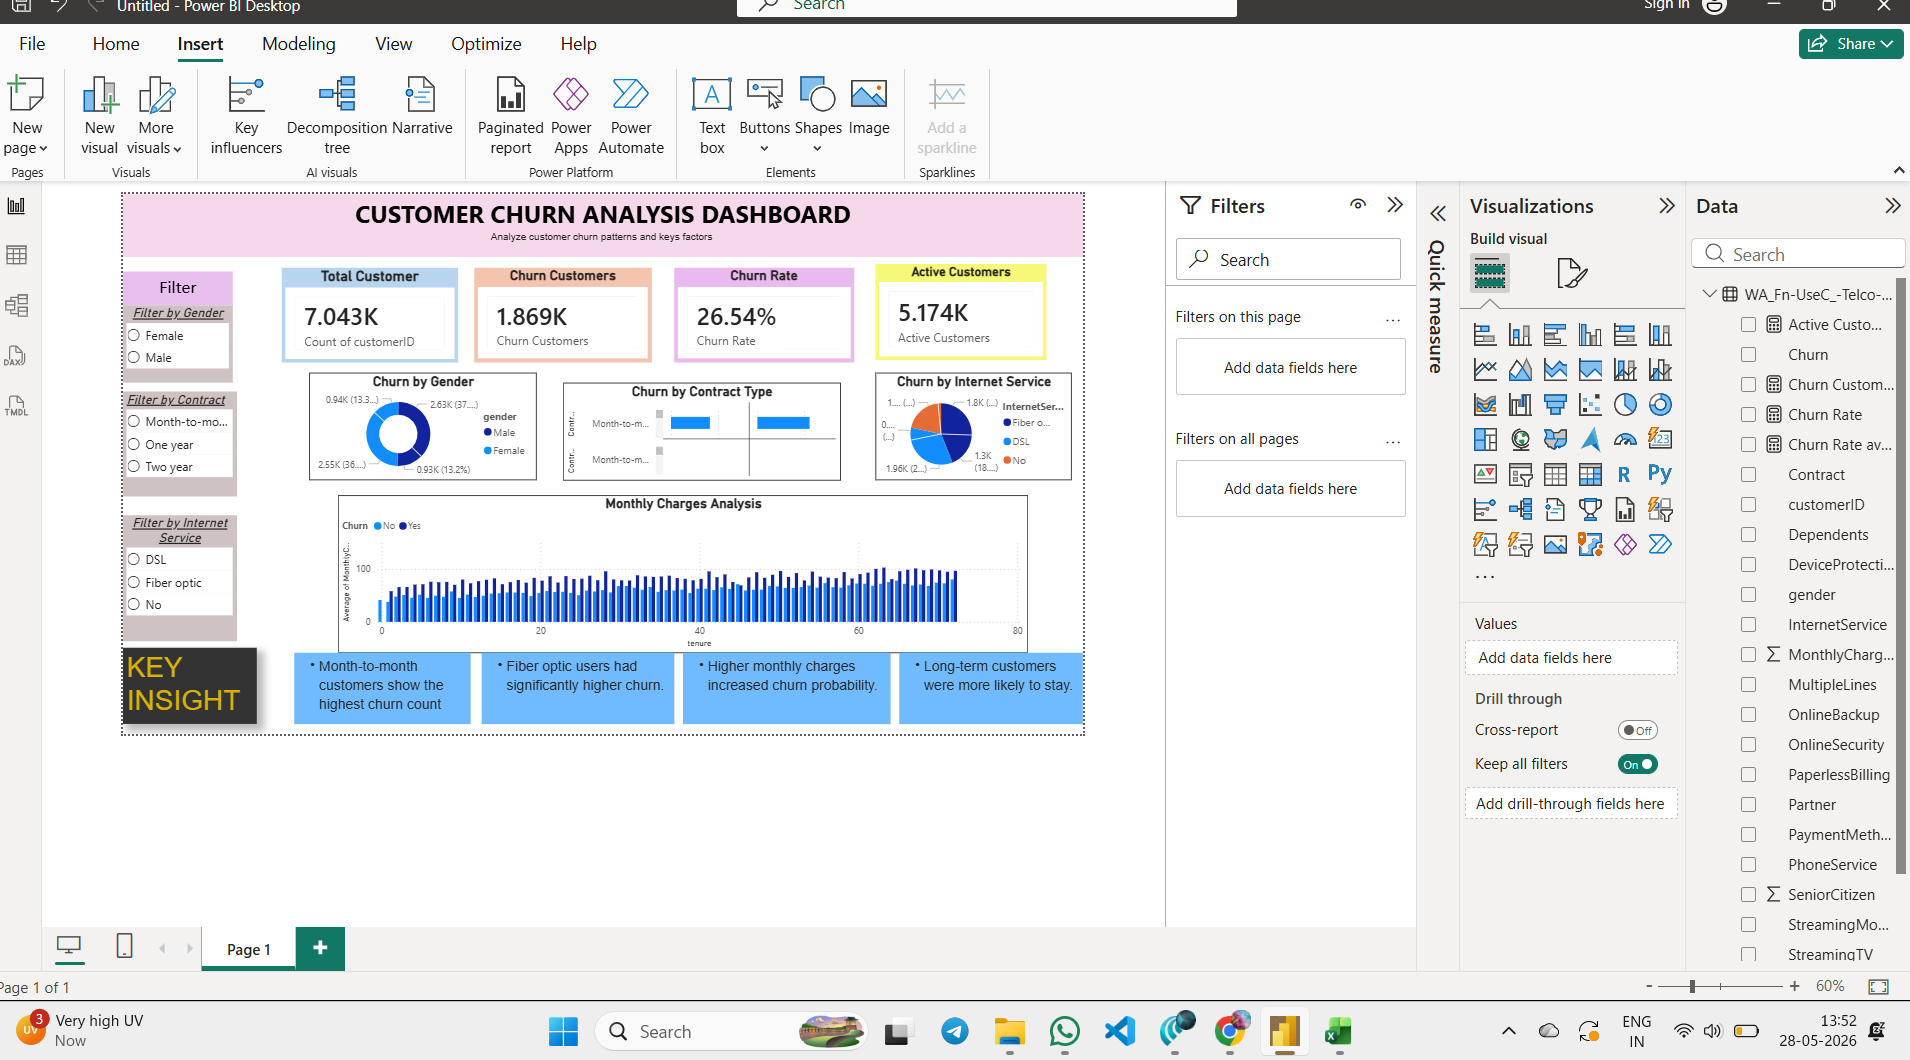

The page's visual inventory and layout, read from the dashboard file:
{"tool":"powerbi","page":{"name":"Page 1","canvas":[1280,720],"ordinal":0},"visuals":[{"type":"actionButton","box":[0,0,100,40],"z":0},{"type":"cardVisual","title":"Total Customer","fields":{"Data":["CountNonNull(WA_Fn-UseC_-Telco-Customer-Churn csv.customerID)"]},"box":[211.7,98.3,235,126.7],"z":1000},{"type":"cardVisual","title":"Churn Customers","fields":{"Data":["WA_Fn-UseC_-Telco-Customer-Churn csv.Churn Customers"]},"box":[468.3,98.3,236.7,126.7],"z":2000},{"type":"cardVisual","title":"Churn Rate","fields":{"Data":["WA_Fn-UseC_-Telco-Customer-Churn csv.Churn Rate"]},"box":[735,98.3,240,126.7],"z":3000},{"type":"cardVisual","title":"Active Customers","fields":{"Data":["WA_Fn-UseC_-Telco-Customer-Churn csv.Active Customers"]},"box":[1003.3,93.3,228.3,128.3],"z":4000},{"type":"donutChart","title":"Churn  by  Gender","fields":{"Category":["WA_Fn-UseC_-Telco-Customer-Churn csv.gender"],"Y":["CountNonNull(WA_Fn-UseC_-Telco-Customer-Churn csv.customerID)"],"Series":["WA_Fn-UseC_-Telco-Customer-Churn csv.Churn"]},"box":[248.3,238.3,303.3,143.3],"z":5000},{"type":"clusteredBarChart","title":"Churn by Contract Type","fields":{"Category":["WA_Fn-UseC_-Telco-Customer-Churn csv.Contract"],"Rows":["WA_Fn-UseC_-Telco-Customer-Churn csv.Churn"],"Y":["CountNonNull(WA_Fn-UseC_-Telco-Customer-Churn csv.customerID)"]},"box":[586.7,251.7,370,130],"z":6000},{"type":"pieChart","title":"Churn by Internet Service","fields":{"Category":["WA_Fn-UseC_-Telco-Customer-Churn csv.InternetService"],"Y":["CountNonNull(WA_Fn-UseC_-Telco-Customer-Churn csv.customerID)"],"Series":["WA_Fn-UseC_-Telco-Customer-Churn csv.Churn"]},"box":[1003.3,238.3,261.7,143.3],"z":7000},{"type":"clusteredColumnChart","title":"Monthly Charges Analysis","fields":{"Category":["WA_Fn-UseC_-Telco-Customer-Churn csv.tenure"],"Y":["Avg(WA_Fn-UseC_-Telco-Customer-Churn csv.MonthlyCharges)"],"Series":["WA_Fn-UseC_-Telco-Customer-Churn csv.Churn"]},"box":[286.7,401.7,920,210],"z":8000},{"type":"listSlicer","title":"Filter by Gender","fields":{"Values":["WA_Fn-UseC_-Telco-Customer-Churn csv.gender"]},"box":[0,148.3,146.7,103.3],"z":8001},{"type":"listSlicer","title":"Filter by Contract","fields":{"Values":["WA_Fn-UseC_-Telco-Customer-Churn csv.Contract"]},"box":[0,263.3,151.7,140],"z":8002},{"type":"listSlicer","title":" Filter by Internet Service","fields":{"Values":["WA_Fn-UseC_-Telco-Customer-Churn csv.InternetService"]},"box":[0,428.3,151.7,168.3],"z":8003},{"type":"textbox","box":[0,605,178.3,101.7],"z":8004},{"type":"textbox","box":[0,0,1280,84.1],"z":8005},{"type":"textbox","box":[0,103.3,146.7,45],"z":8006},{"type":"textbox","box":[228.3,611.7,235,95],"z":8007},{"type":"textbox","box":[478.3,611.7,256.7,95],"z":8008},{"type":"textbox","box":[746.7,611.7,276.7,95],"z":8009},{"type":"textbox","box":[1035,611.7,245,95],"z":8010}]}

Visuals, with their boxes on the page's 1280x720 design canvas (x1, y1, x2, y2). These are canvas units, not pixel positions in the 1910x1060 screenshot, which may show the page scaled, cropped or inside an application window:
actionButton: region(0, 0, 100, 40)
"Total Customer" cardVisual: region(212, 98, 447, 225)
"Churn Customers" cardVisual: region(468, 98, 705, 225)
"Churn Rate" cardVisual: region(735, 98, 975, 225)
"Active Customers" cardVisual: region(1003, 93, 1232, 222)
"Churn  by  Gender" donutChart: region(248, 238, 552, 382)
"Churn by Contract Type" clusteredBarChart: region(587, 252, 957, 382)
"Churn by Internet Service" pieChart: region(1003, 238, 1265, 382)
"Monthly Charges Analysis" clusteredColumnChart: region(287, 402, 1207, 612)
"Filter by Gender" listSlicer: region(0, 148, 147, 252)
"Filter by Contract" listSlicer: region(0, 263, 152, 403)
" Filter by Internet Service" listSlicer: region(0, 428, 152, 597)
textbox: region(0, 605, 178, 707)
textbox: region(0, 0, 1280, 84)
textbox: region(0, 103, 147, 148)
textbox: region(228, 612, 463, 707)
textbox: region(478, 612, 735, 707)
textbox: region(747, 612, 1023, 707)
textbox: region(1035, 612, 1280, 707)
